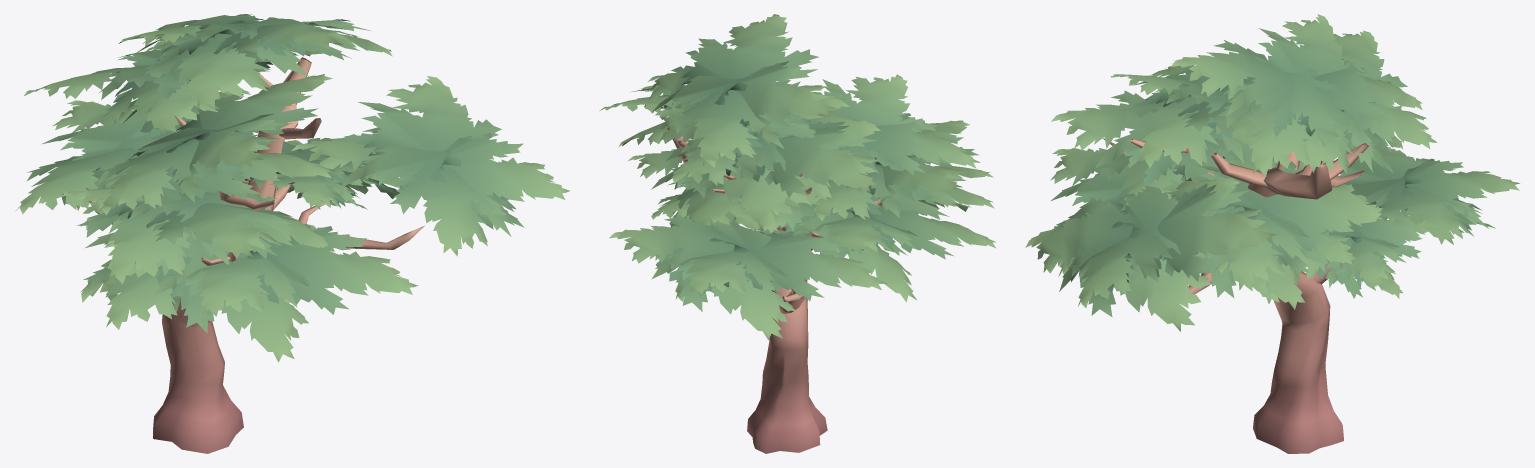
The model's file is Tree1.fbx.
3 views of the same model, side by side, from view 1: azimuth 30°, elevation 25°; view 2: azimuth 150°, elevation 25°; view 3: azimuth 270°, elevation 25° (orthographic). The views are drawn at different scales.
Visible parts, largest first — view 1: leaves, tree; view 2: leaves, tree; view 3: leaves, tree.
Boxes of the visible parts, x1,y1,x2,y2 form: leaves: (16, 14, 569, 362); tree: (86, 57, 424, 453); leaves: (600, 14, 996, 340); tree: (667, 127, 882, 453); leaves: (1025, 14, 1519, 331); tree: (1102, 138, 1368, 453).
Bounding box in the file's own units: 10.02 × 9.34 × 10.19.
Materials: 1 (1 with a texture image).
